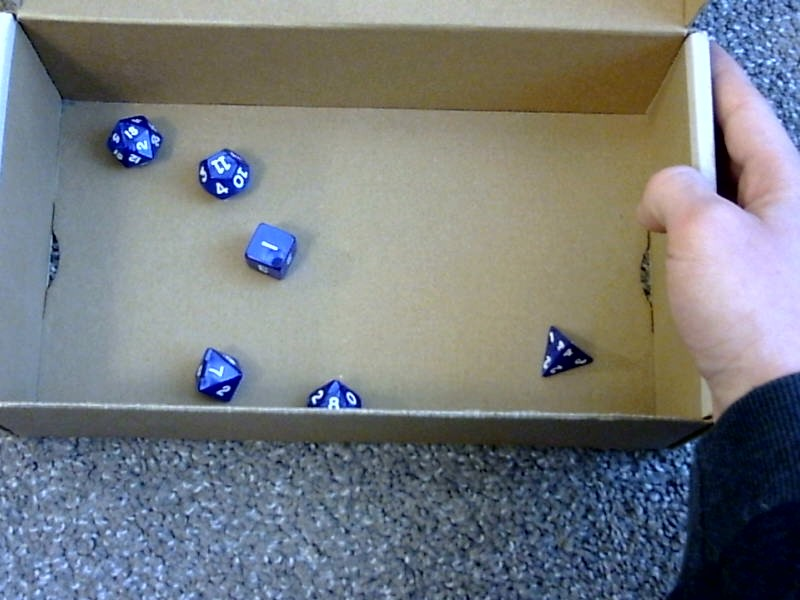d10 8: (301, 377, 365, 414)
d12 11: (193, 143, 254, 203)
d20 18: (98, 108, 164, 172)
d4 4: (536, 320, 596, 381)
d6 1: (238, 218, 298, 278)
d8 7: (187, 345, 246, 401)
